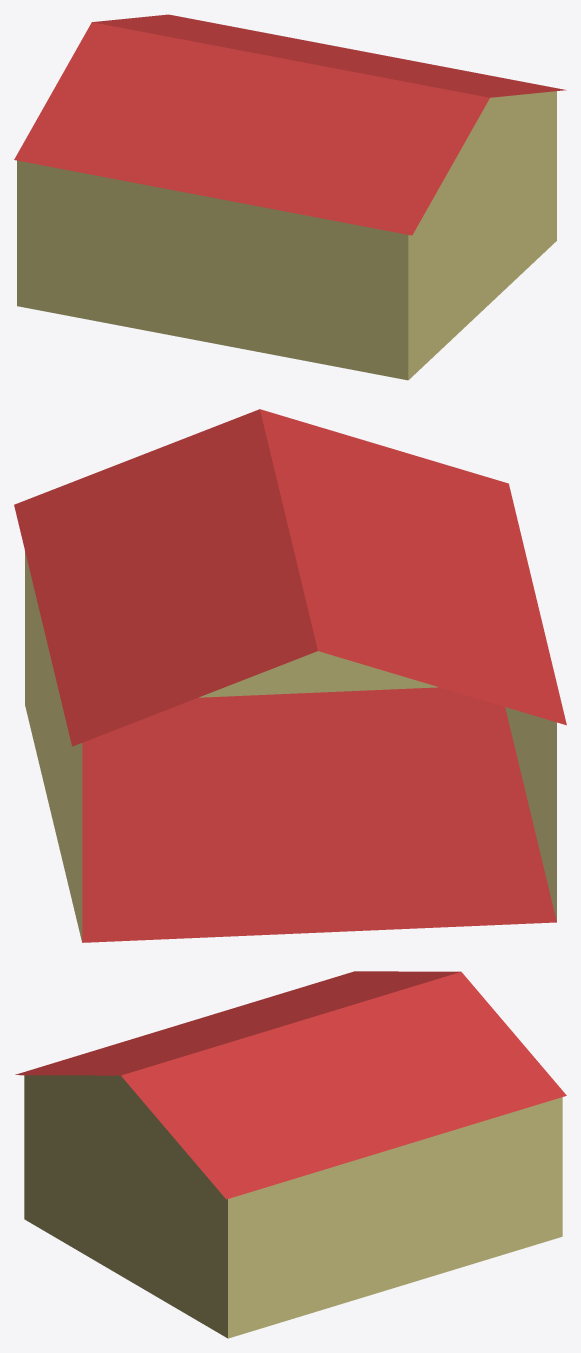
3 renders of one model, top to bottom at view 1: azimuth 30°, elevation 25°; view 2: azimuth 150°, elevation 25°; view 3: azimuth 270°, elevation 25°, orthographic. The views are drawn at different scales.
Size of the model in its own units: 18.31 by 18.75 by 7.69.
